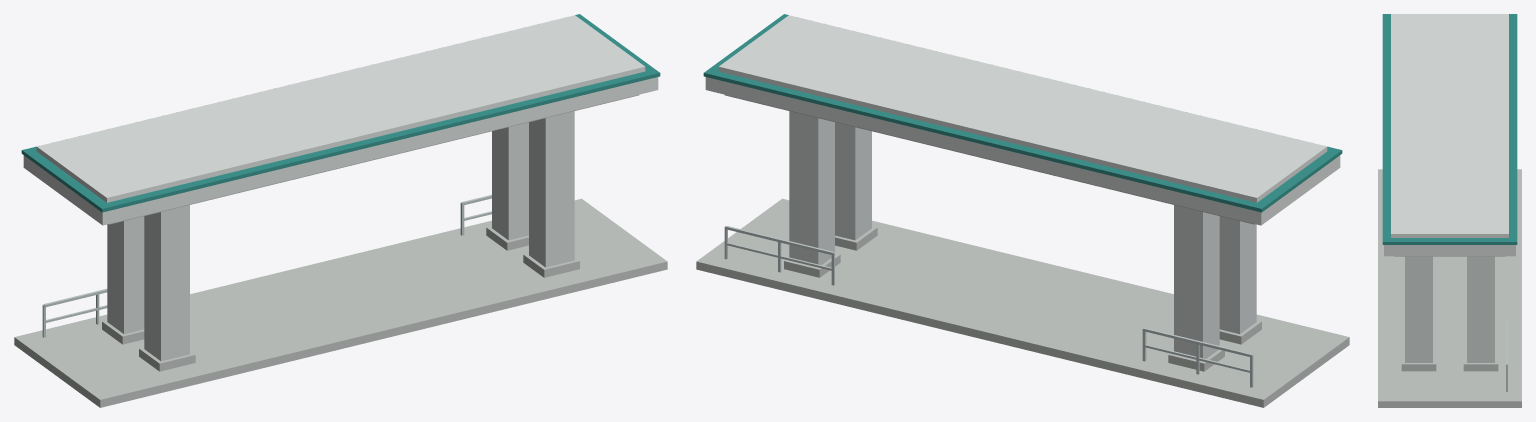
3 renders of one model, left to right at view 1: azimuth 30°, elevation 25°; view 2: azimuth 150°, elevation 25°; view 3: azimuth 270°, elevation 25°, orthographic. The views are drawn at different scales.
Visible parts, largest first — view 1: assembly-canopy__cap, assembly-canopy__sill, assembly-canopy__column, assembly-canopy__teal, assembly-canopy__frame, assembly-canopy__slab; view 2: assembly-canopy__cap, assembly-canopy__sill, assembly-canopy__column, assembly-canopy__teal, assembly-canopy__frame, assembly-canopy__slab; view 3: assembly-canopy__cap, assembly-canopy__sill, assembly-canopy__column, assembly-canopy__teal.
Boxes of the visible parts, x1=… form: assembly-canopy__cap: x1=23, y1=15, x2=658, y2=225; assembly-canopy__sill: x1=14, y1=198, x2=667, y2=407; assembly-canopy__column: x1=107, y1=111, x2=574, y2=361; assembly-canopy__teal: x1=21, y1=14, x2=660, y2=212; assembly-canopy__frame: x1=42, y1=194, x2=491, y2=337; assembly-canopy__slab: x1=109, y1=95, x2=638, y2=224; assembly-canopy__cap: x1=705, y1=15, x2=1340, y2=225; assembly-canopy__sill: x1=696, y1=198, x2=1349, y2=407; assembly-canopy__column: x1=789, y1=111, x2=1256, y2=358; assembly-canopy__teal: x1=703, y1=14, x2=1342, y2=212; assembly-canopy__frame: x1=724, y1=226, x2=1253, y2=387; assembly-canopy__slab: x1=725, y1=95, x2=1254, y2=224; assembly-canopy__cap: x1=1384, y1=14, x2=1515, y2=256; assembly-canopy__sill: x1=1378, y1=169, x2=1521, y2=407; assembly-canopy__column: x1=1405, y1=256, x2=1494, y2=362; assembly-canopy__teal: x1=1382, y1=14, x2=1517, y2=244.
Size of the model in its own units: 13.28 by 4.5 by 3.48.
